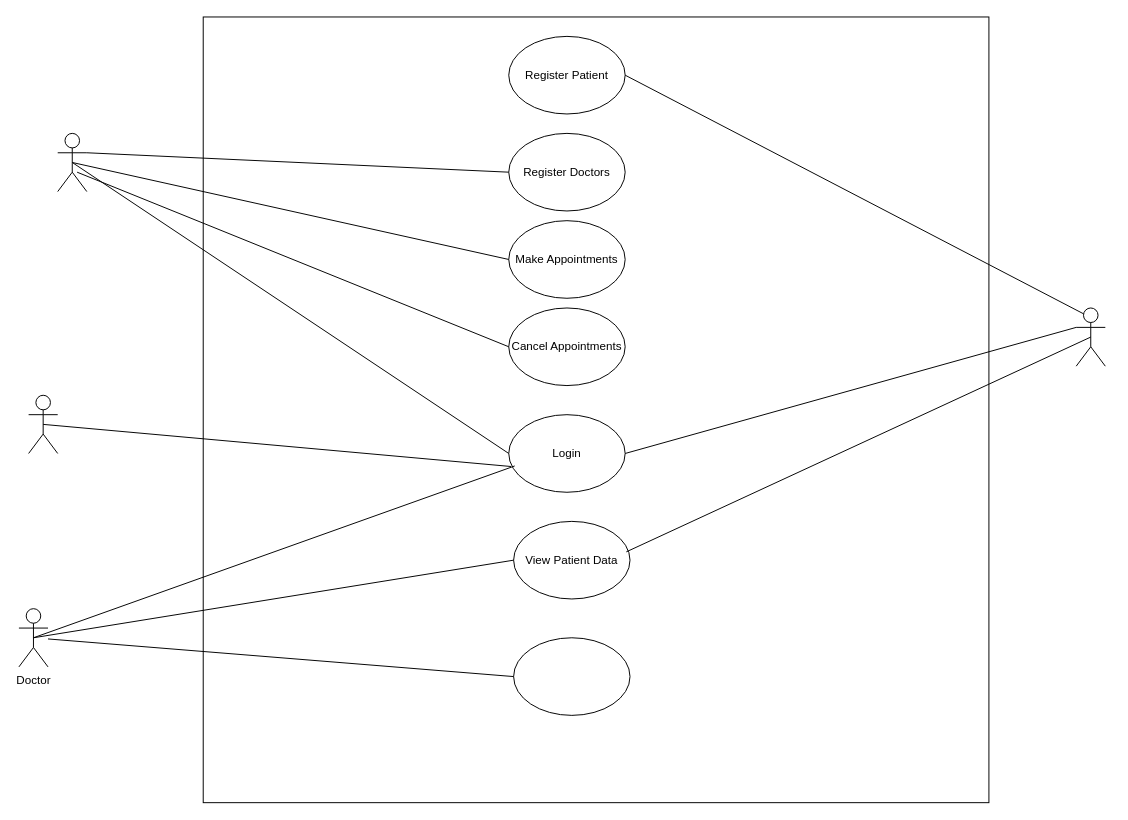
Image size: 1128x820. Some labels were removed from this diagram. The shapes that lost their labels are listed below. From the top down, each one's box as (x1, y1, x2, y2) in pixels, then its label:
(57, 132, 87, 192): Receptionist
(1075, 307, 1105, 366): Patients
(28, 394, 58, 453): Admin
(513, 637, 630, 715): View Doctor Informatin
